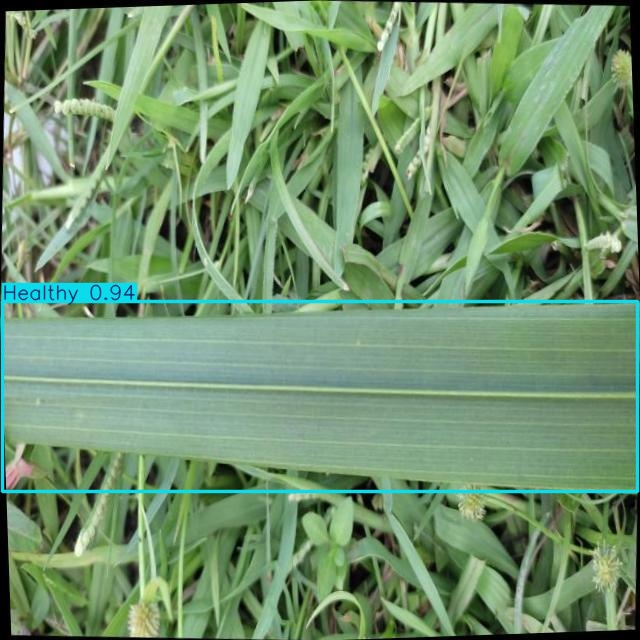Healthy: (2, 302, 638, 492)
